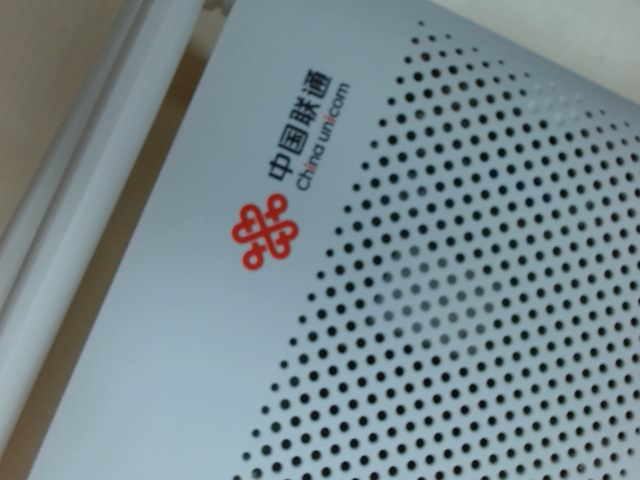AD_ChinaUnicom: (208, 49, 366, 284)
